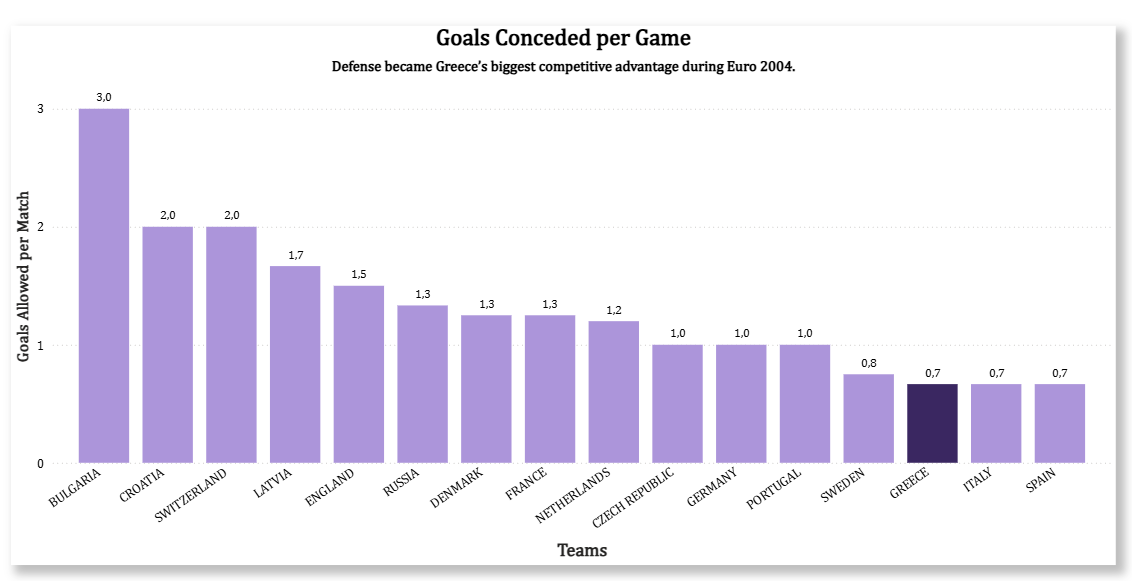

This screenshot's page, from the dashboard's own definition file:
{"tool":"powerbi","page":{"name":"Goals Conceded per Game","canvas":[1280,720],"ordinal":3},"visuals":[{"type":"clusteredColumnChart","title":"Goals Conceded per Game","fields":{"Category":["Teams Stats.TEAMS"],"Y":["Sum(Teams Stats.GOALS CONCEDED PER GAME)"]},"box":[32.3,64.5,1213,591.8],"z":0}]}

Visuals, with their boxes on the page's 1280x720 design canvas (x1, y1, x2, y2). These are canvas units, not pixel positions in the 1132x581 screenshot, which may show the page scaled, cropped or inside an application window:
"Goals Conceded per Game" clusteredColumnChart: (left=32, top=64, right=1245, bottom=656)
